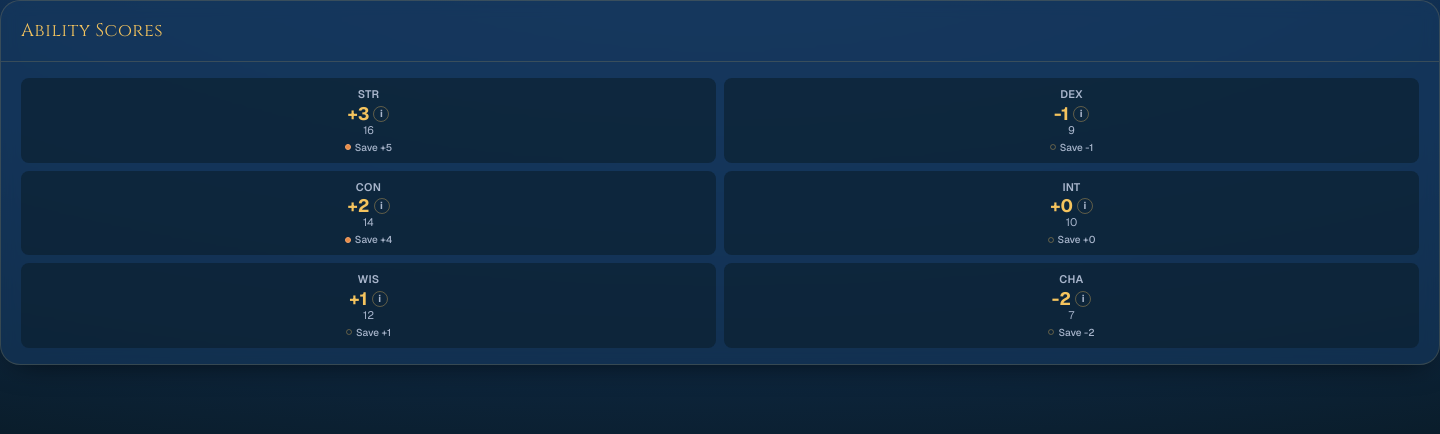
Test: AbilityScoresPanel › the tooltip breaks a score down into base, final and modifier
Hover over the button named "About STR (score 16)": [382, 114] box x1=374 y1=106 x2=390 y2=122
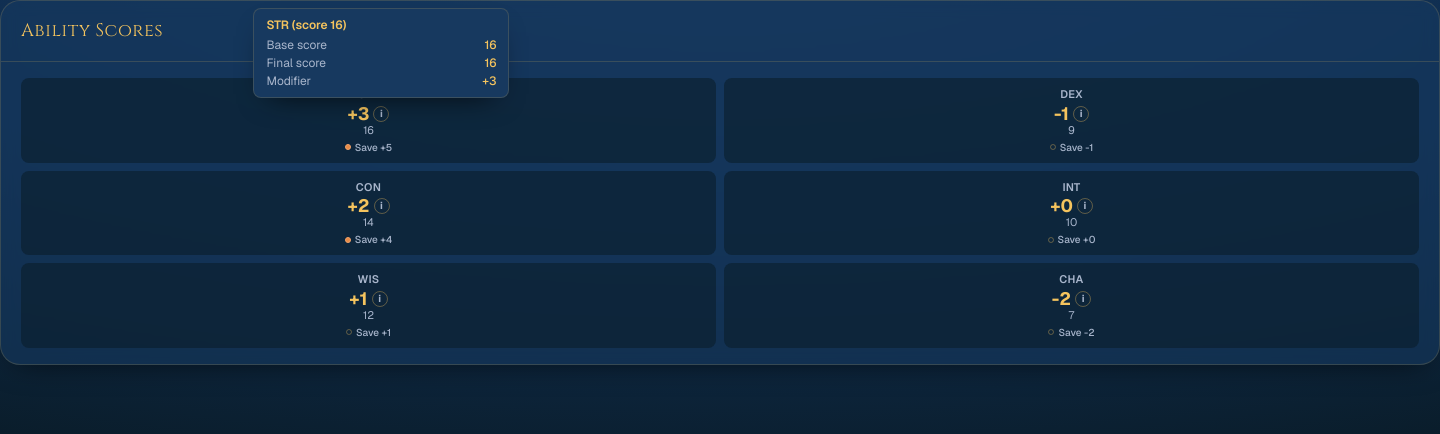
Result: the tooltip shows "STR (score 16)" at x1=266 y1=16 x2=346 y2=32
